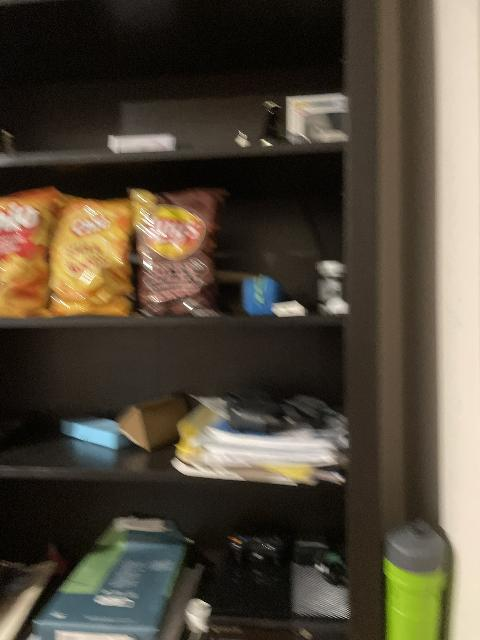Chio Cascaval 125g: (0, 185, 68, 317)
Chio Hula Hoops Cheese 70g: (46, 194, 138, 316)
Lays Beef Grilled Ribs 125g: (133, 187, 227, 317)
